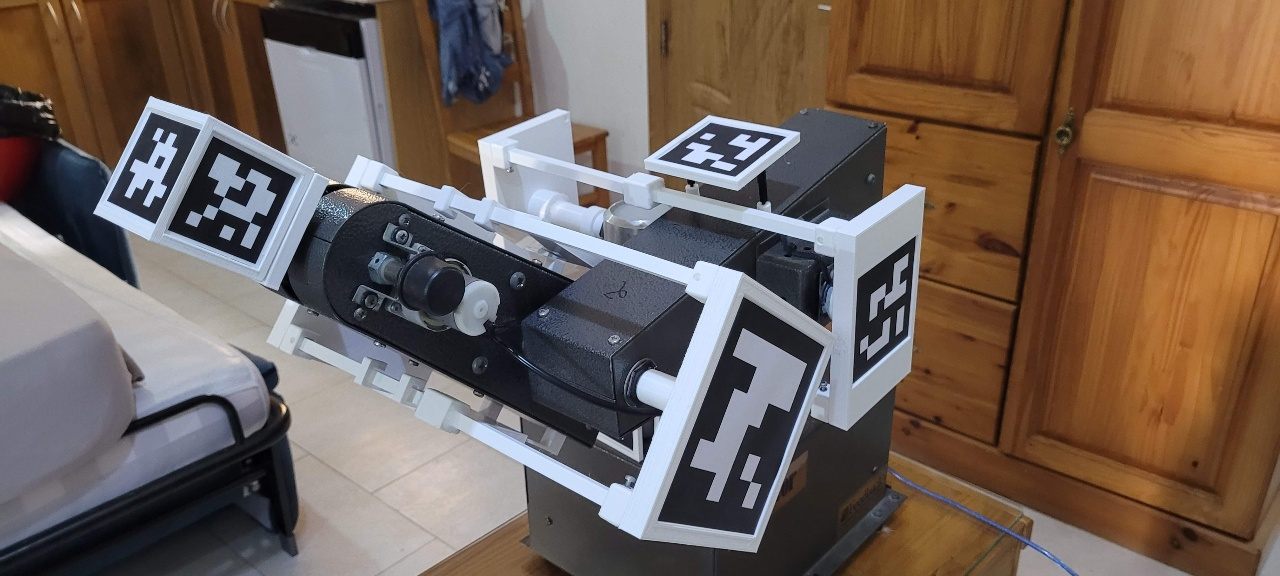Robot: (92, 96, 927, 553)
